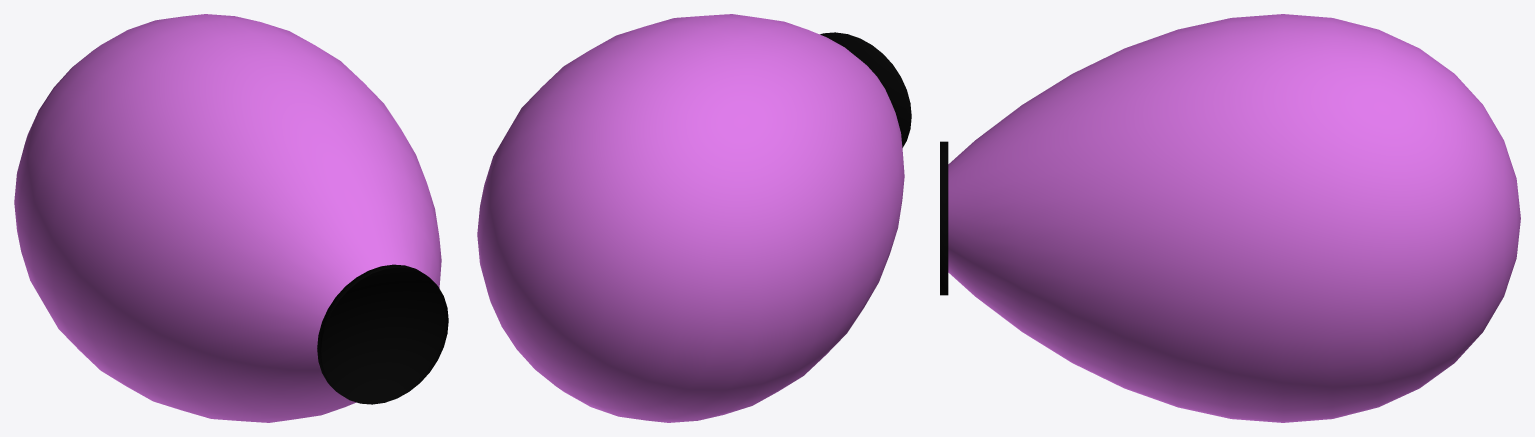
Rendered from ChewingGum.fbx.
The picture shows the model from 3 angles, left to right: view 1: azimuth 30°, elevation 25°; view 2: azimuth 150°, elevation 25°; view 3: azimuth 270°, elevation 25°; orthographic projection. The views are drawn at different scales.
Visible parts, largest first — view 1: ChewingGum; view 2: ChewingGum; view 3: ChewingGum.
Boxes of the visible parts, x1,y1,x2,y2 form: ChewingGum: (14,14,448,422); ChewingGum: (477,14,911,422); ChewingGum: (940,14,1520,422).
Bounding box in the file's own units: 24.62 × 24.62 × 34.93.
